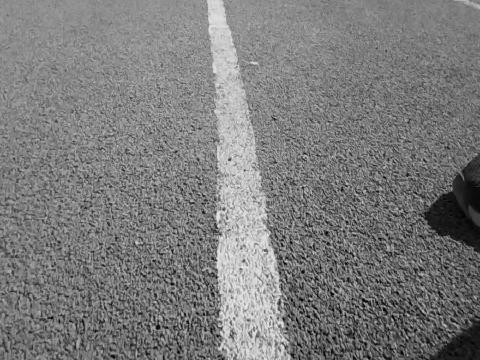Lines: (207, 0, 295, 360)
